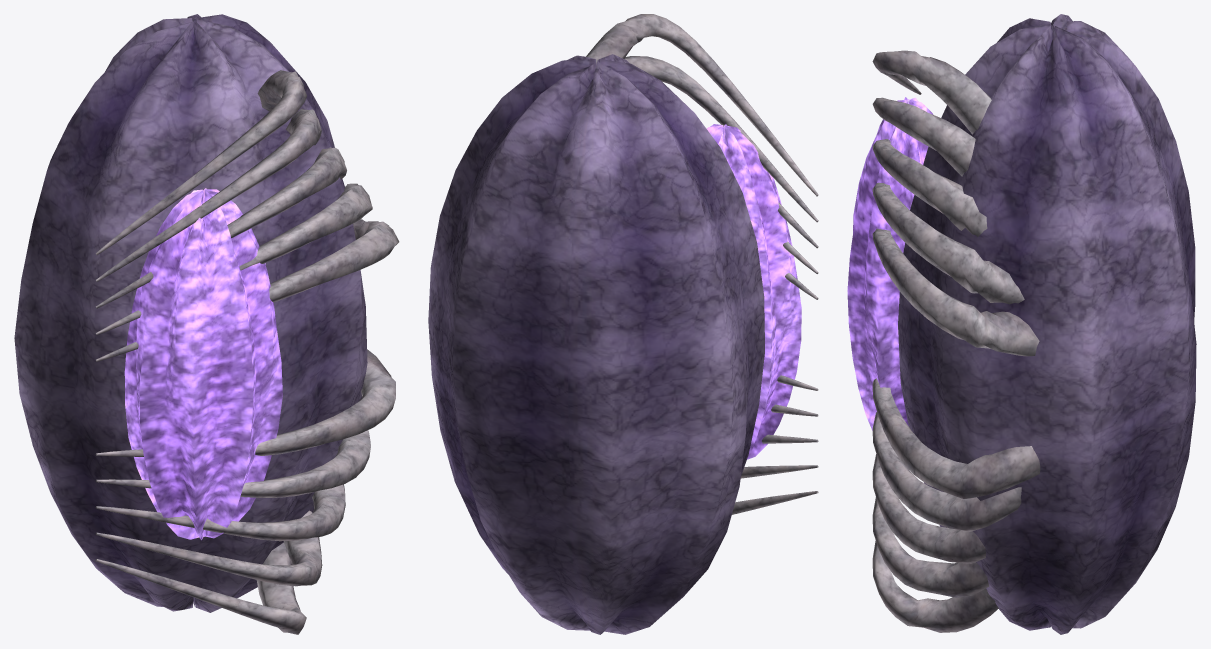
Rendered from marrow-reliquary.glb.
3 renders of one model, left to right at view 1: azimuth 30°, elevation 25°; view 2: azimuth 150°, elevation 25°; view 3: azimuth 270°, elevation 25°, orthographic. The views are drawn at different scales.
Parts seen in each view (by area): view 1: marrow-reliquary_membrane, marrow-reliquary_signal, marrow-reliquary_rib; view 2: marrow-reliquary_membrane, marrow-reliquary_signal, marrow-reliquary_rib; view 3: marrow-reliquary_membrane, marrow-reliquary_rib, marrow-reliquary_signal.
Boxes of the visible parts, x1,y1,x2,y2 form: marrow-reliquary_membrane: [14, 14, 367, 612]; marrow-reliquary_signal: [124, 188, 282, 540]; marrow-reliquary_rib: [95, 70, 399, 634]; marrow-reliquary_membrane: [428, 54, 764, 634]; marrow-reliquary_signal: [706, 124, 801, 459]; marrow-reliquary_rib: [586, 14, 818, 514]; marrow-reliquary_membrane: [898, 14, 1196, 634]; marrow-reliquary_rib: [872, 50, 1040, 632]; marrow-reliquary_signal: [847, 97, 933, 430].
Size of the model in its own units: 1.02 by 1.77 by 0.927.
3 materials, 3 textured.
